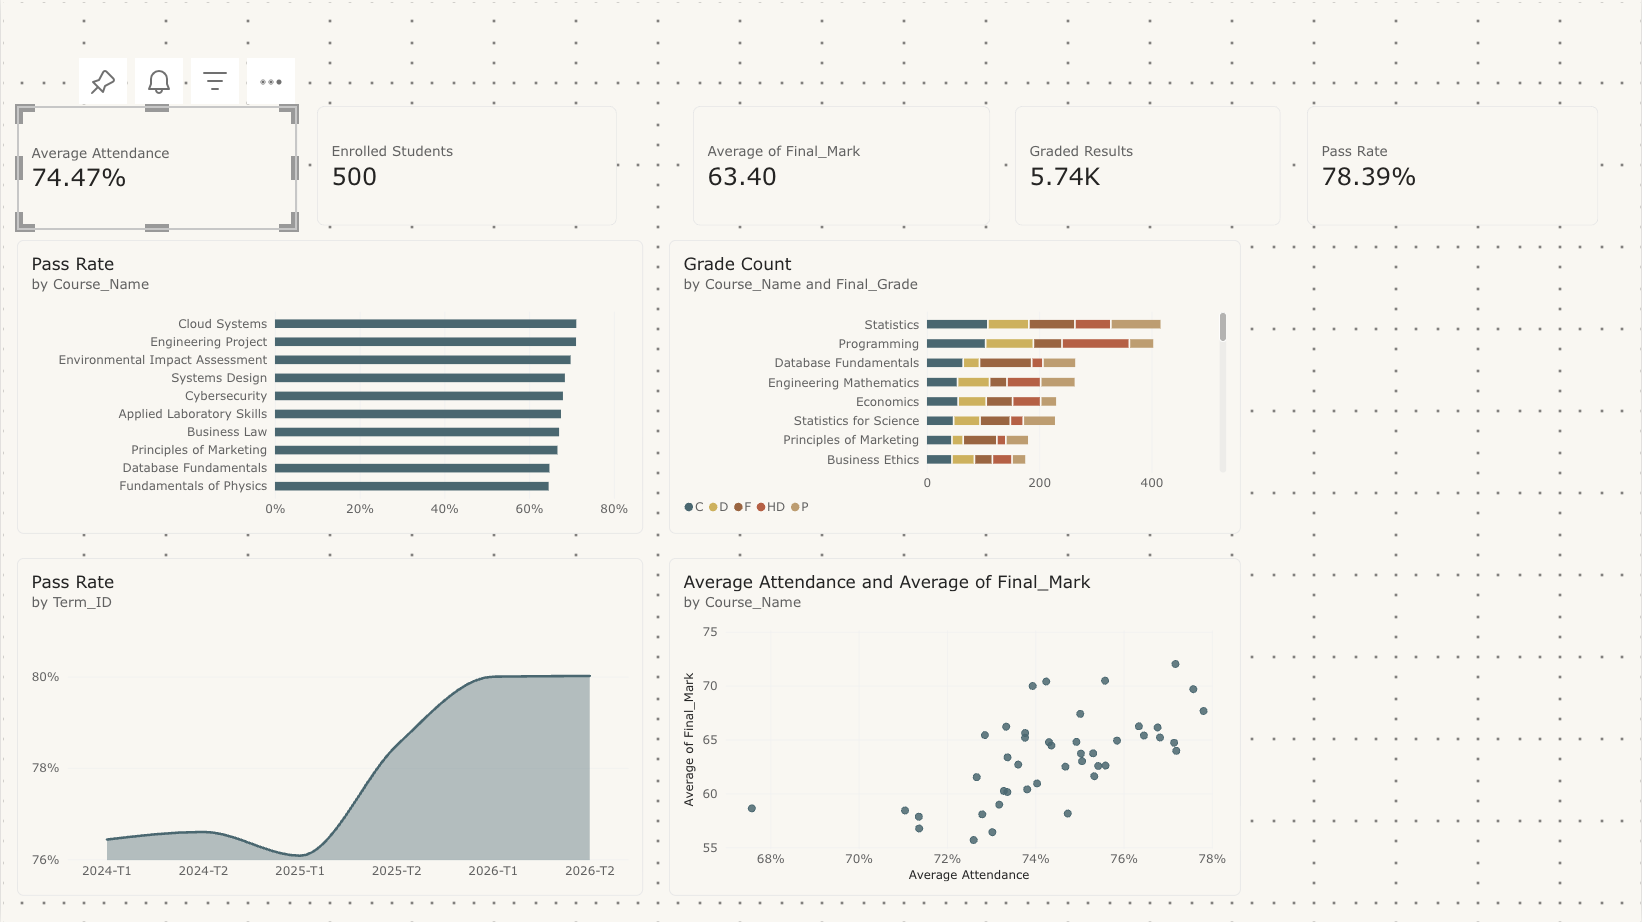

The page's visual inventory and layout, read from the dashboard file:
{"tool":"powerbi","page":{"name":"Page 1","canvas":[1920,1080],"ordinal":0},"visuals":[{"type":"cardVisual","title":"yy","fields":{"Data":["FactEnrollment.Enrolled Students","FactEnrollment.Graded Results","FactEnrollment.Pass Rate","Avg(FactEnrollment.Final_Mark)","FactEnrollment.Average Attendance"]},"box":[0,84.3,1920,166.2],"z":0},{"type":"clusteredBarChart","title":"Lowest course Pass Rate","fields":{"Category":["DimCourse.Course_Name"],"Y":["FactEnrollment.Pass Rate"]},"box":[18.7,281,732.9,344.2],"z":1000},{"type":"barChart","title":"Grade Distribution - Priority Course","fields":{"Category":["DimCourse.Course_Name"],"Series":["FactEnrollment.Final_Grade"],"Y":["FactEnrollment.Grade Count"]},"box":[782,281,669.7,344.2],"z":2000},{"type":"stackedAreaChart","title":"Pass Rate Trend by Term","fields":{"Category":["DimTerm.Term_ID"],"Y":["FactEnrollment.Pass Rate"]},"box":[18.7,653.3,732.9,395.7],"z":3000},{"type":"scatterChart","title":"Attendance and Course Performance","fields":{"Category":["DimCourse.Course_Name"],"X":["FactEnrollment.Average Attendance"],"Y":["Avg(FactEnrollment.Final_Mark)"]},"box":[782,653.3,669.7,395.7],"z":4000}]}

Visuals, with their boxes on the page's 1920x1080 design canvas (x1, y1, x2, y2). These are canvas units, not pixel positions in the 1642x922 screenshot, which may show the page scaled, cropped or inside an application window:
"yy" cardVisual: left=0, top=84, right=1920, bottom=250
"Lowest course Pass Rate" clusteredBarChart: left=19, top=281, right=752, bottom=625
"Grade Distribution - Priority Course" barChart: left=782, top=281, right=1452, bottom=625
"Pass Rate Trend by Term" stackedAreaChart: left=19, top=653, right=752, bottom=1049
"Attendance and Course Performance" scatterChart: left=782, top=653, right=1452, bottom=1049
